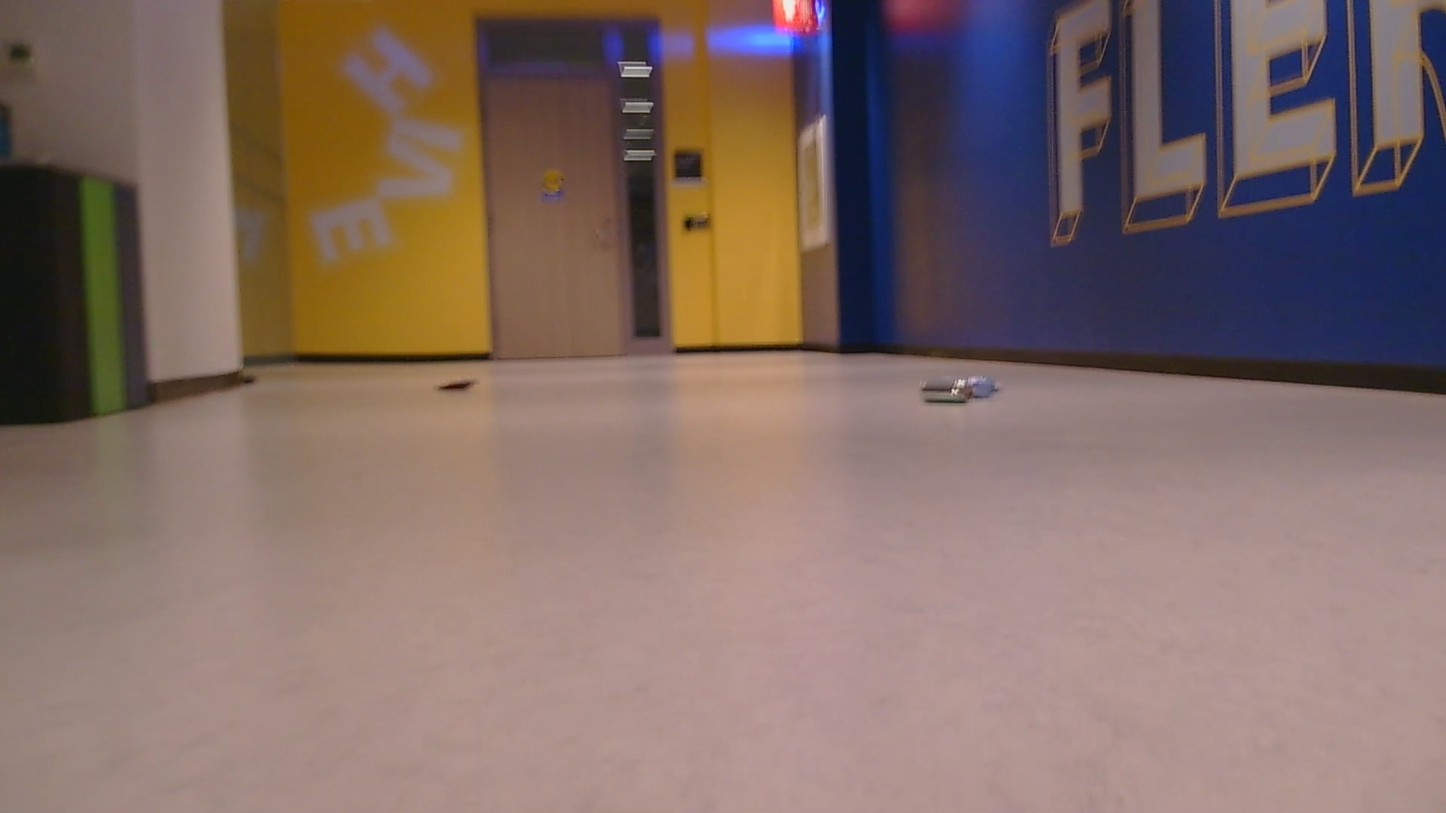can: (918, 370, 1003, 403), (429, 362, 484, 397)
